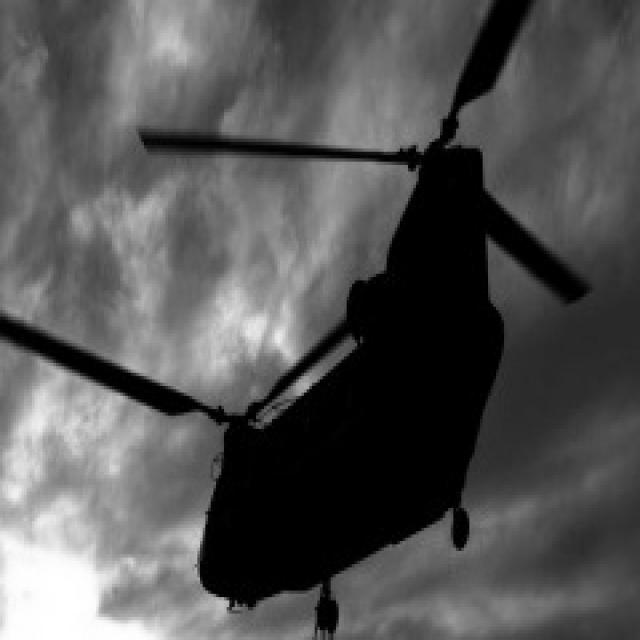Helicopter: (0, 0, 588, 633)
